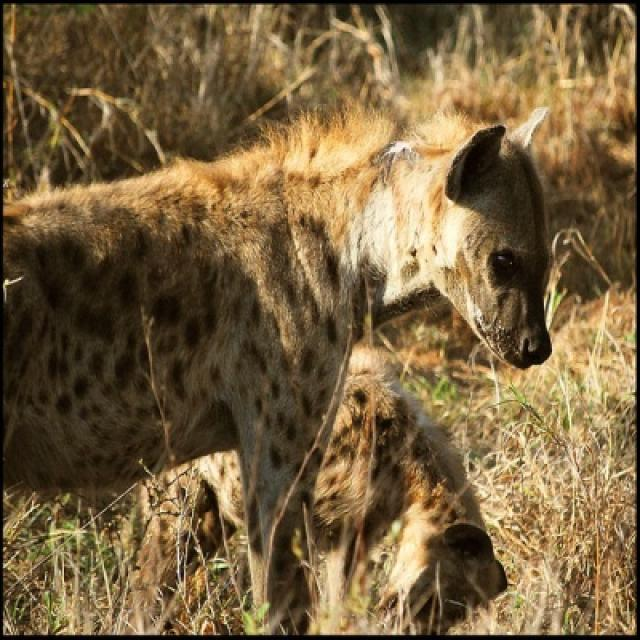hyena: (0, 101, 554, 634)
